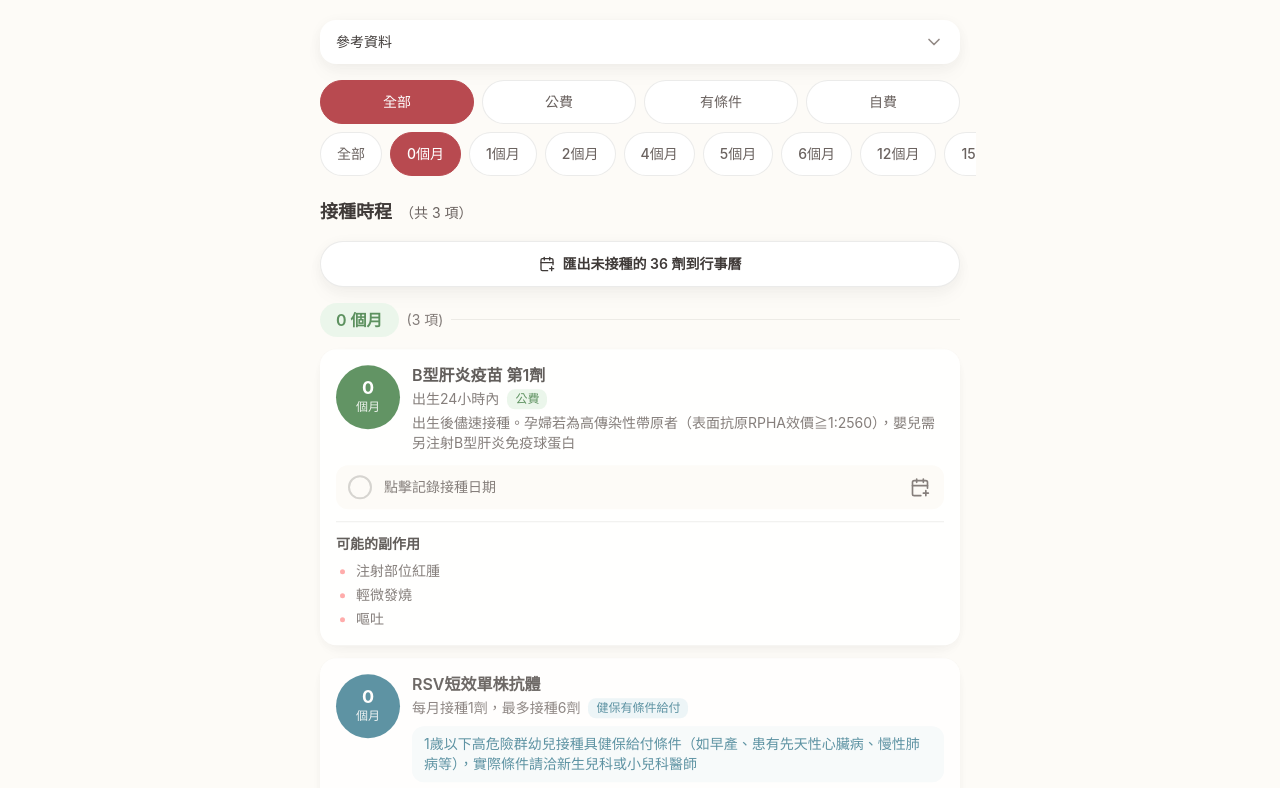
it: 還沒接種的那一劑 › 開的是「記錄接種日期」，而且沒有取消接種的路
Click the button named "B型肝炎疫苗 第1劑：記錄接種日期". click: coordinates (360, 487)
box: x1=338 y1=465 x2=382 y2=509
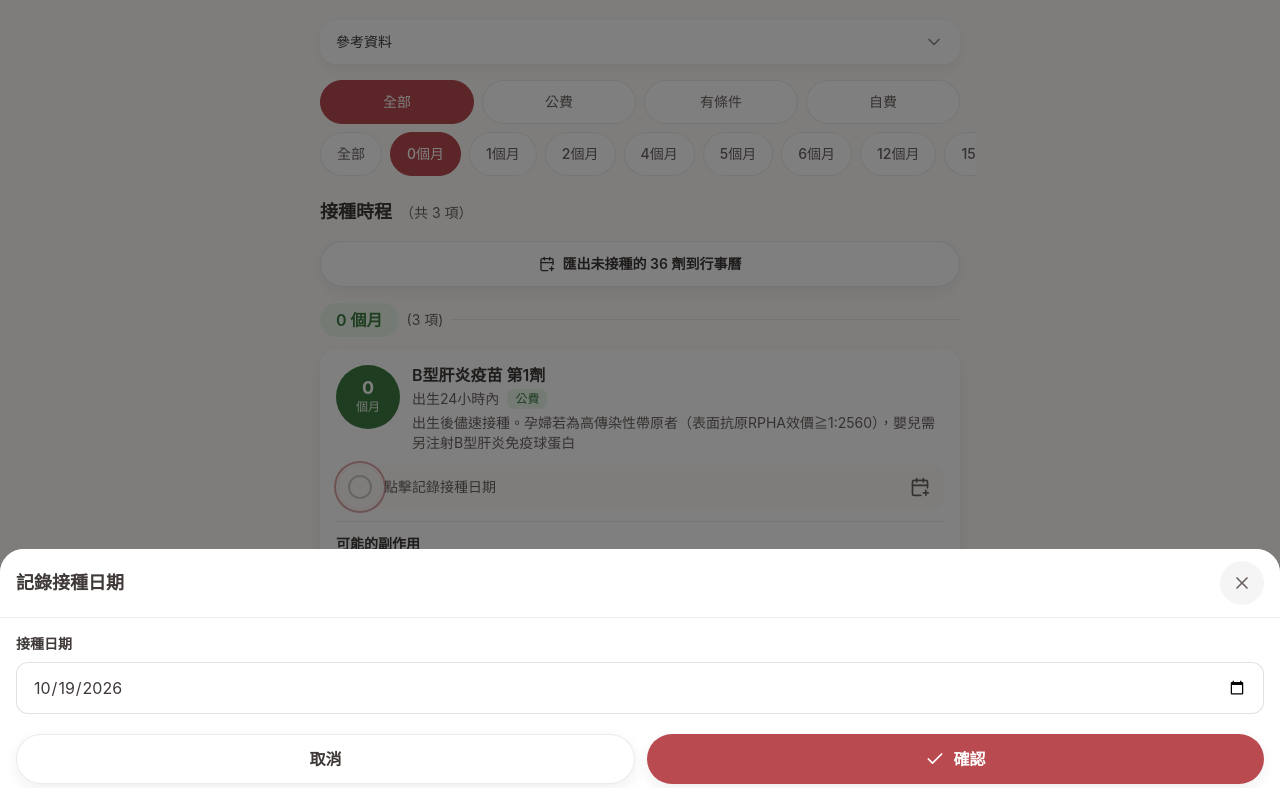
Check: the heading "記錄接種日期" is shown, box x1=16 y1=571 x2=124 y2=595
